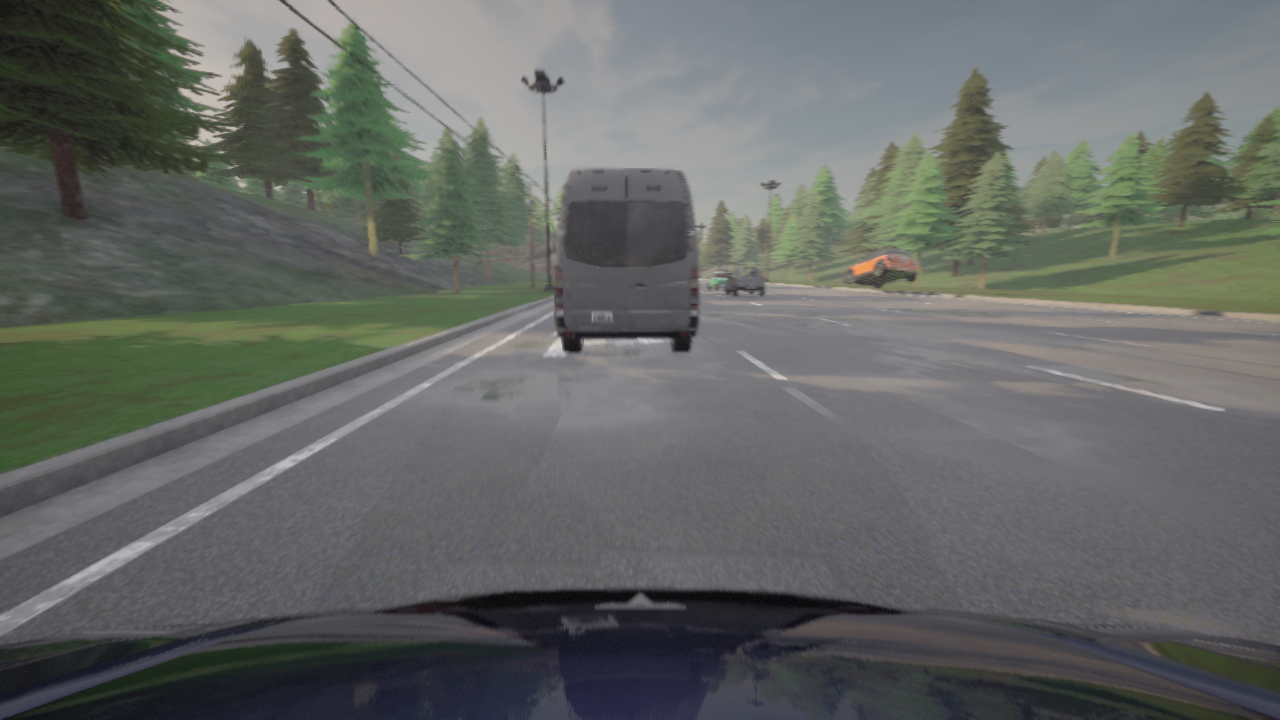cyclist: (0, 588, 1279, 719), (554, 169, 698, 352), (844, 248, 917, 289), (725, 268, 764, 295), (708, 271, 727, 290), (722, 270, 732, 276)
